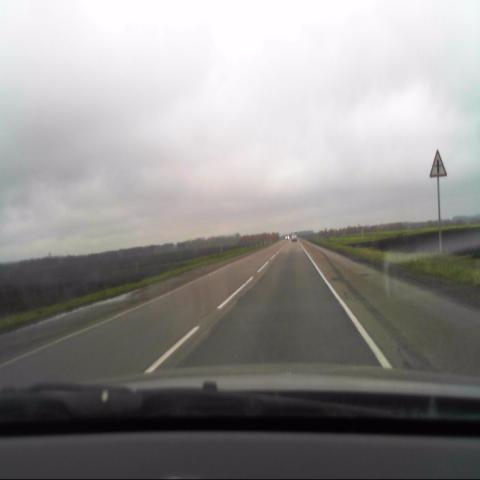2_3: (429, 148, 447, 178)
